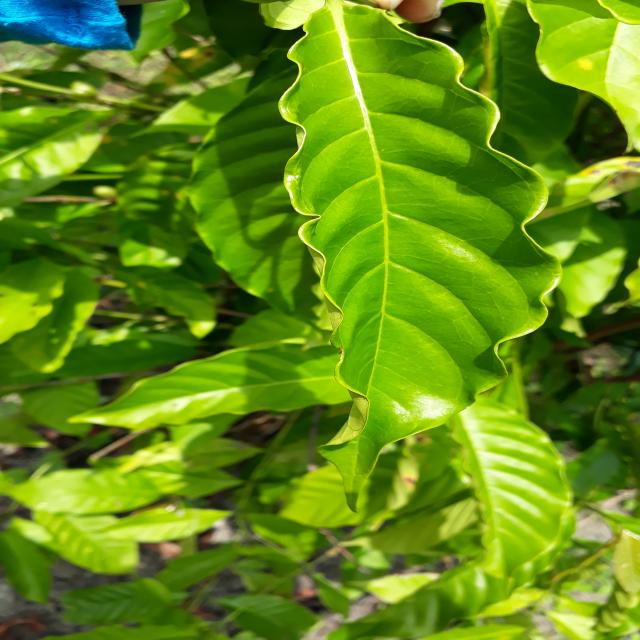Sanas: (277, 0, 562, 447)
